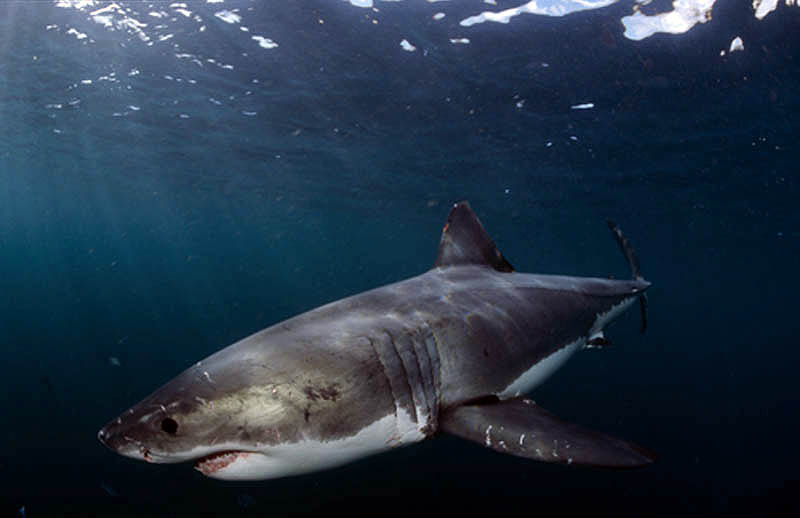Carcharodon_carcharias: (70, 194, 674, 482)
